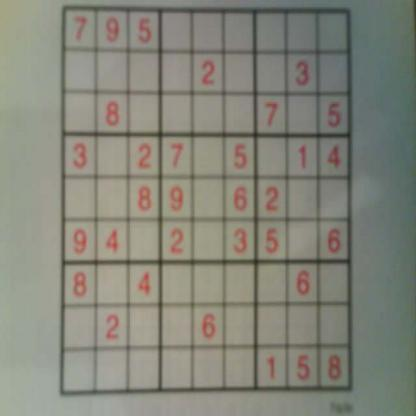sudoku: (56, 2, 358, 403)
